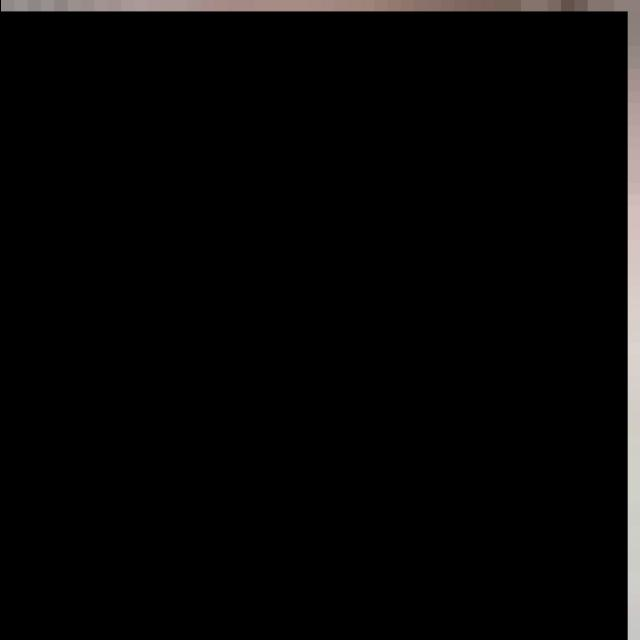fire: (0, 11, 627, 640)
